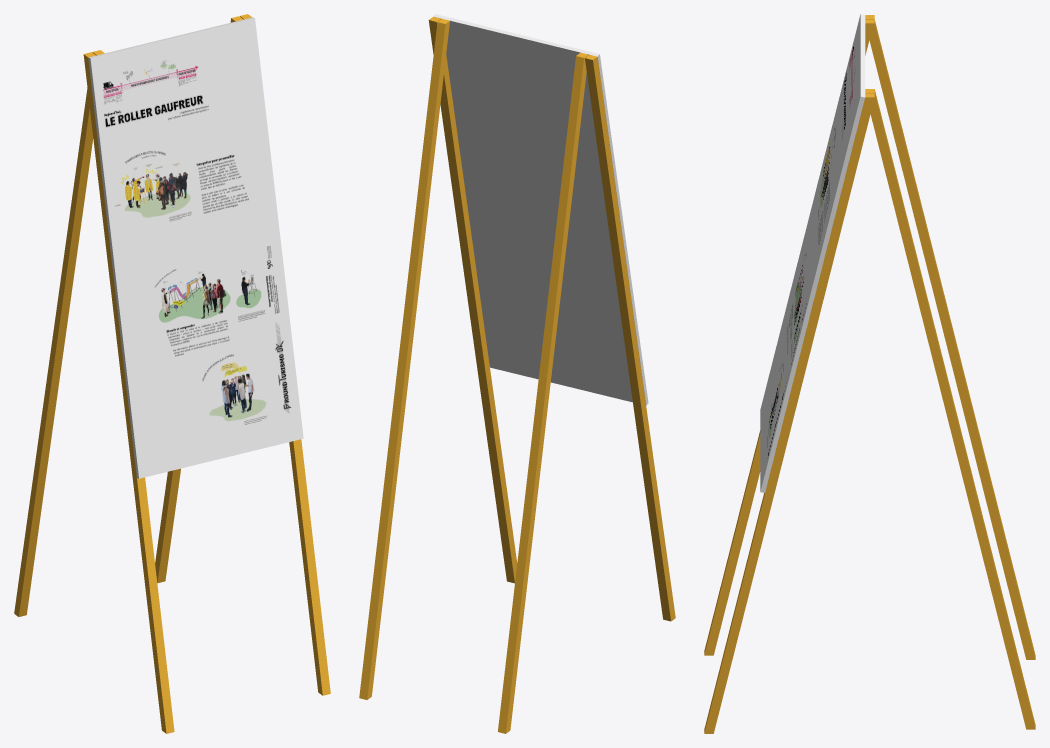
File: panneau.glb
The picture shows the model from 3 angles, left to right: view 1: azimuth 30°, elevation 25°; view 2: azimuth 150°, elevation 25°; view 3: azimuth 270°, elevation 25°; orthographic projection. The views are drawn at different scales.
Visible parts, largest first — view 1: Object_2, Object_4, Object_3; view 2: Object_3, Object_4; view 3: Object_4, Object_2, Object_3.
Boxes of the visible parts, x1=… form: Object_2: x1=90, y1=18, x2=303, y2=478; Object_4: x1=14, y1=14, x2=330, y2=733; Object_3: x1=88, y1=17, x2=254, y2=478; Object_3: x1=433, y1=14, x2=648, y2=405; Object_4: x1=359, y1=16, x2=675, y2=733; Object_4: x1=704, y1=15, x2=1035, y2=733; Object_2: x1=760, y1=14, x2=860, y2=491; Object_3: x1=760, y1=14, x2=865, y2=492.
Size of the model in its own units: 1.11 by 4 by 1.89.
Materials: 3 (1 with a texture image).
